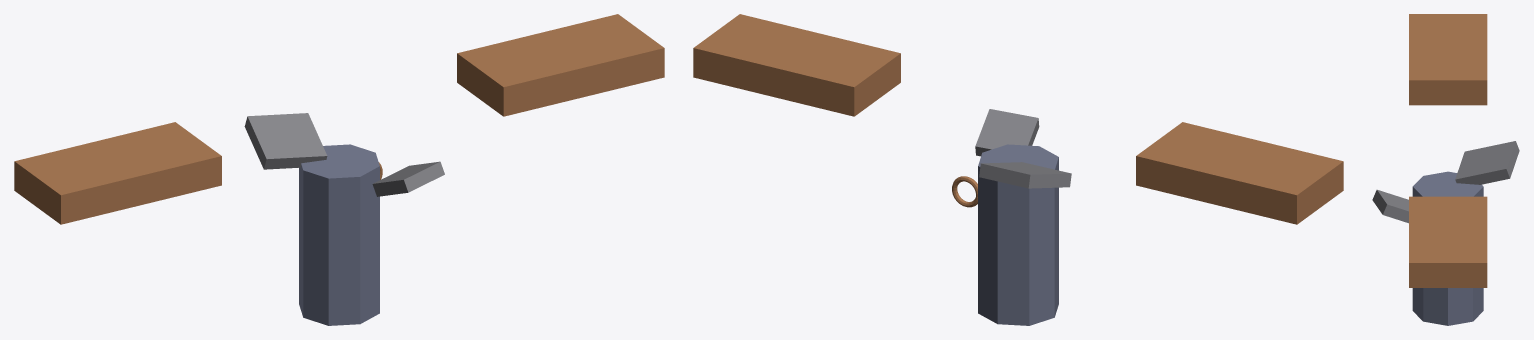
Rendered from shattered-causeway.glb.
3 renders of one model, left to right at view 1: azimuth 30°, elevation 25°; view 2: azimuth 150°, elevation 25°; view 3: azimuth 270°, elevation 25°, orthographic. The views are drawn at different scales.
Parts seen in each view (by area): view 1: causeway-support-pillar, causeway-left-span, causeway-right-span, causeway-collapse-shard-0, causeway-collapse-shard-1; view 2: causeway-left-span, causeway-right-span, causeway-support-pillar, causeway-collapse-shard-1, causeway-collapse-shard-0; view 3: causeway-left-span, causeway-right-span, causeway-support-pillar, causeway-collapse-shard-0, causeway-collapse-shard-1.
Part boxes in pixels (x1=…): causeway-support-pillar: x1=299, y1=144, x2=379, y2=325; causeway-left-span: x1=14, y1=122, x2=221, y2=224; causeway-right-span: x1=457, y1=14, x2=664, y2=116; causeway-collapse-shard-0: x1=244, y1=113, x2=327, y2=169; causeway-collapse-shard-1: x1=372, y1=161, x2=444, y2=196; causeway-left-span: x1=1136, y1=122, x2=1343, y2=224; causeway-right-span: x1=693, y1=14, x2=900, y2=116; causeway-support-pillar: x1=978, y1=144, x2=1058, y2=325; causeway-collapse-shard-1: x1=975, y1=109, x2=1039, y2=156; causeway-collapse-shard-0: x1=979, y1=162, x2=1071, y2=188; causeway-left-span: x1=1409, y1=14, x2=1487, y2=105; causeway-right-span: x1=1409, y1=196, x2=1487, y2=287; causeway-support-pillar: x1=1412, y1=171, x2=1483, y2=325; causeway-collapse-shard-0: x1=1455, y1=141, x2=1519, y2=184; causeway-collapse-shard-1: x1=1372, y1=189, x2=1408, y2=223.
Bounding box in the file's own units: 3 × 0.97 × 0.7503.
